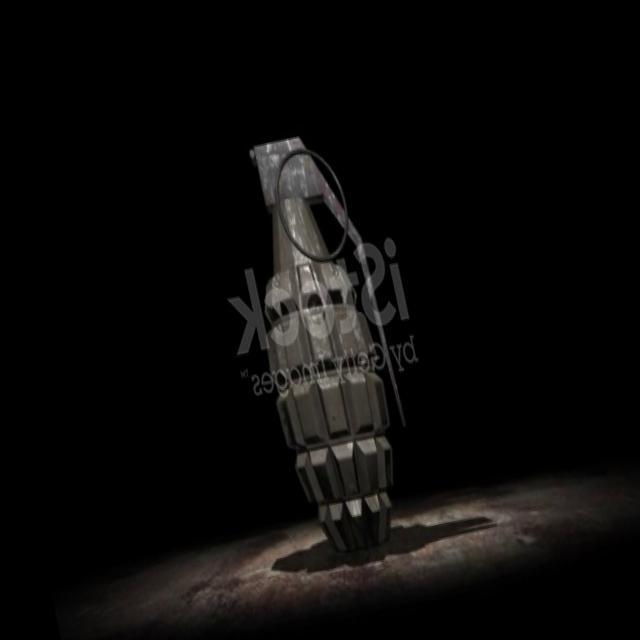grenade: (220, 120, 430, 560)
